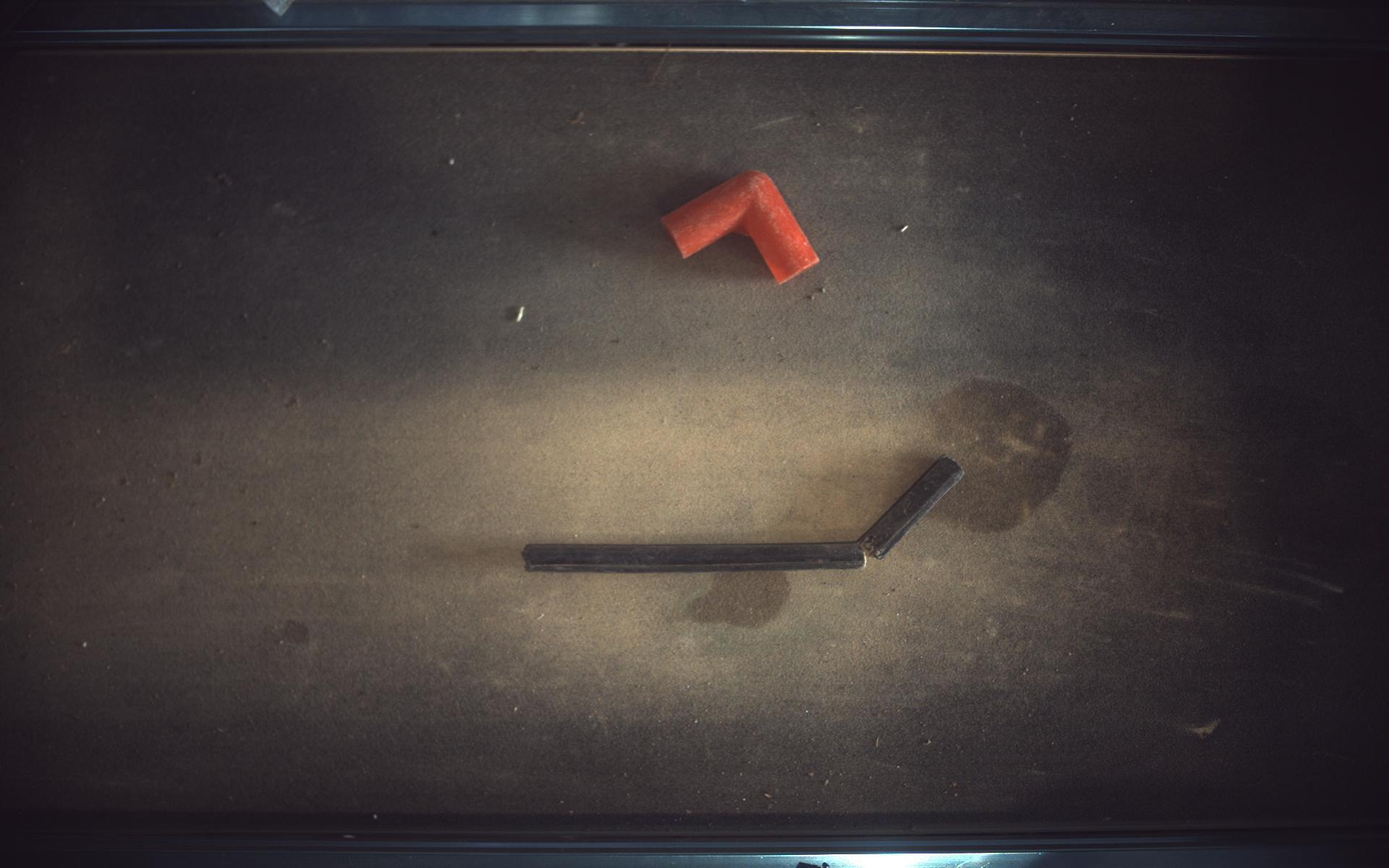pipes: (524, 456, 966, 574), (662, 169, 820, 282)
